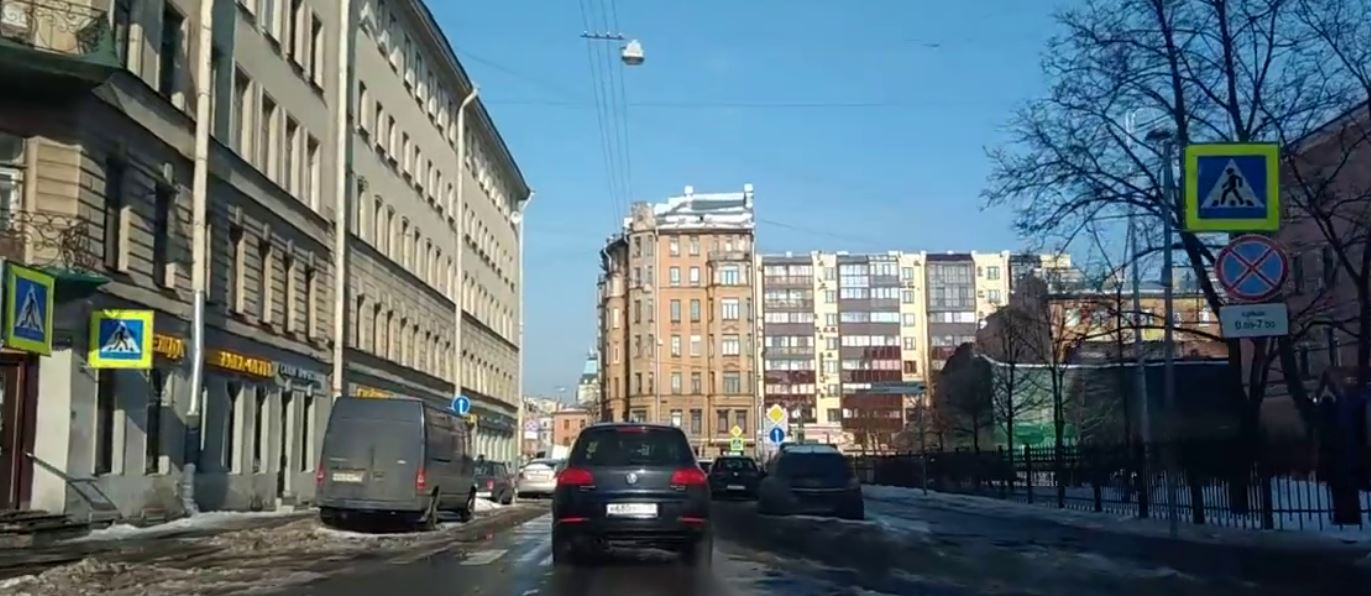Yaya Gecidi: (1201, 150, 1276, 223), (13, 281, 52, 342), (97, 317, 142, 358)
